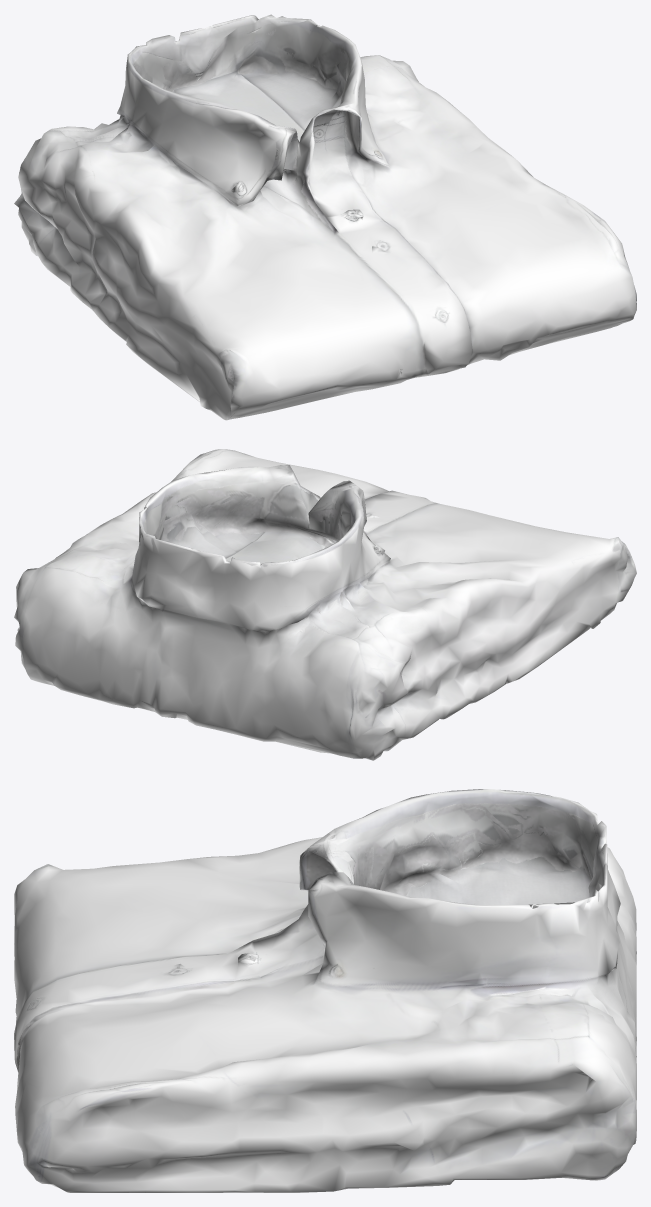
Rendered from WhiteShirtFolded.fbx.
The picture shows the model from 3 angles, top to bottom: view 1: azimuth 30°, elevation 25°; view 2: azimuth 150°, elevation 25°; view 3: azimuth 270°, elevation 25°; orthographic projection. The views are drawn at different scales.
Parts seen in each view (by area): view 1: temp.002; view 2: temp.002; view 3: temp.002.
Boxes of the visible parts, left/top/right/bottom form: temp.002: left=14, top=14, right=636, bottom=420; temp.002: left=14, top=449, right=636, bottom=760; temp.002: left=14, top=789, right=636, bottom=1192.
Bounding box in the file's own units: 189 × 81.14 × 201.
1 material, 1 textured.
